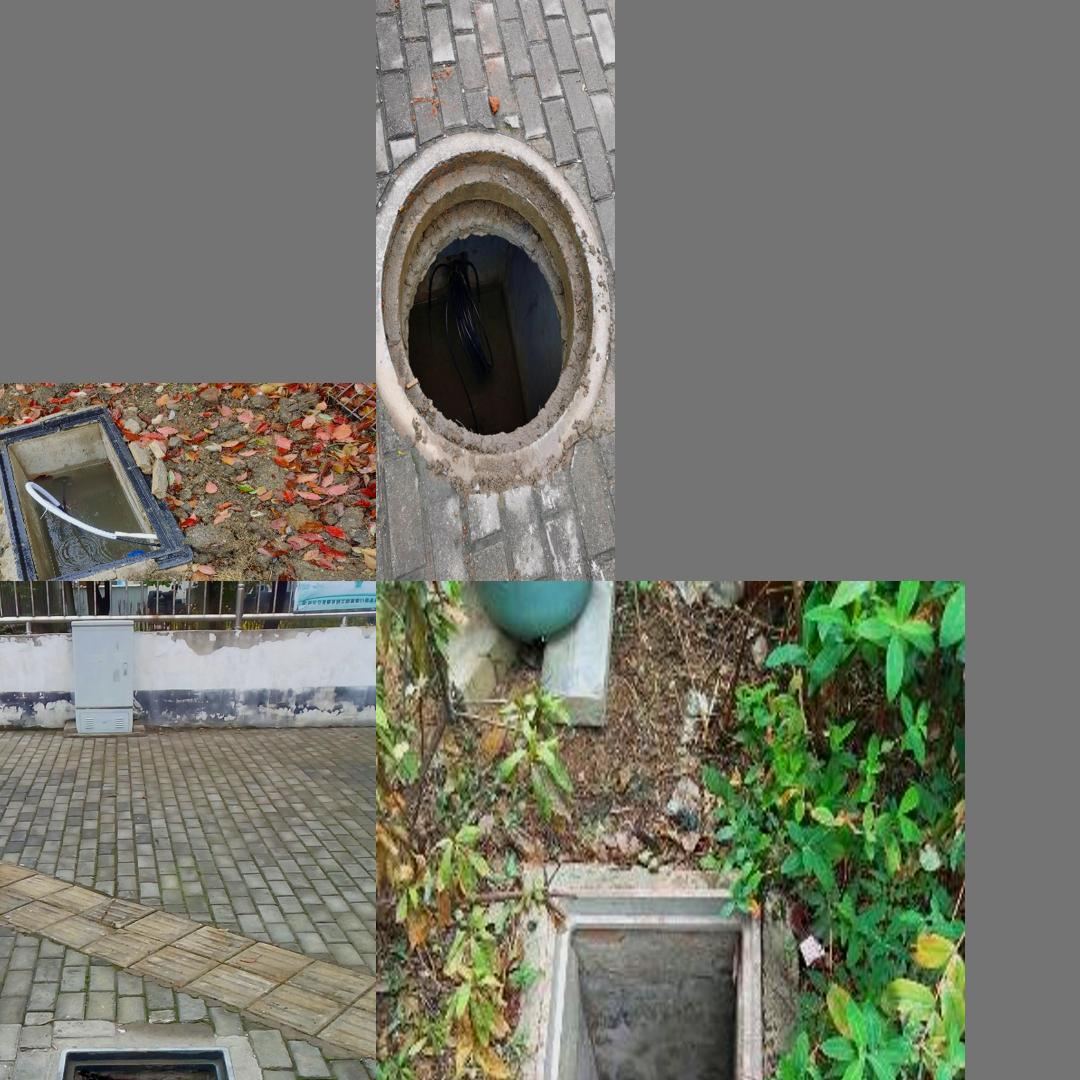lose: (376, 128, 609, 491), (516, 889, 771, 1080), (0, 405, 196, 580), (26, 1015, 276, 1080)
